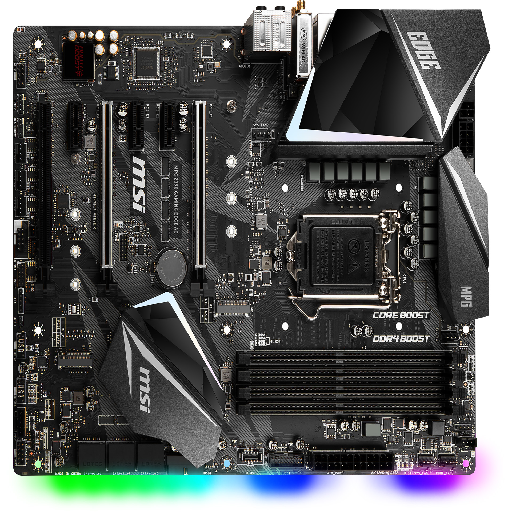CPU: (282, 207, 405, 306)
GPU: (189, 102, 208, 272), (98, 101, 115, 270)
MOTHERBOARD: (13, 5, 491, 476)
RAM: (226, 341, 466, 423)
SSD: (214, 299, 253, 316), (126, 242, 154, 256)
